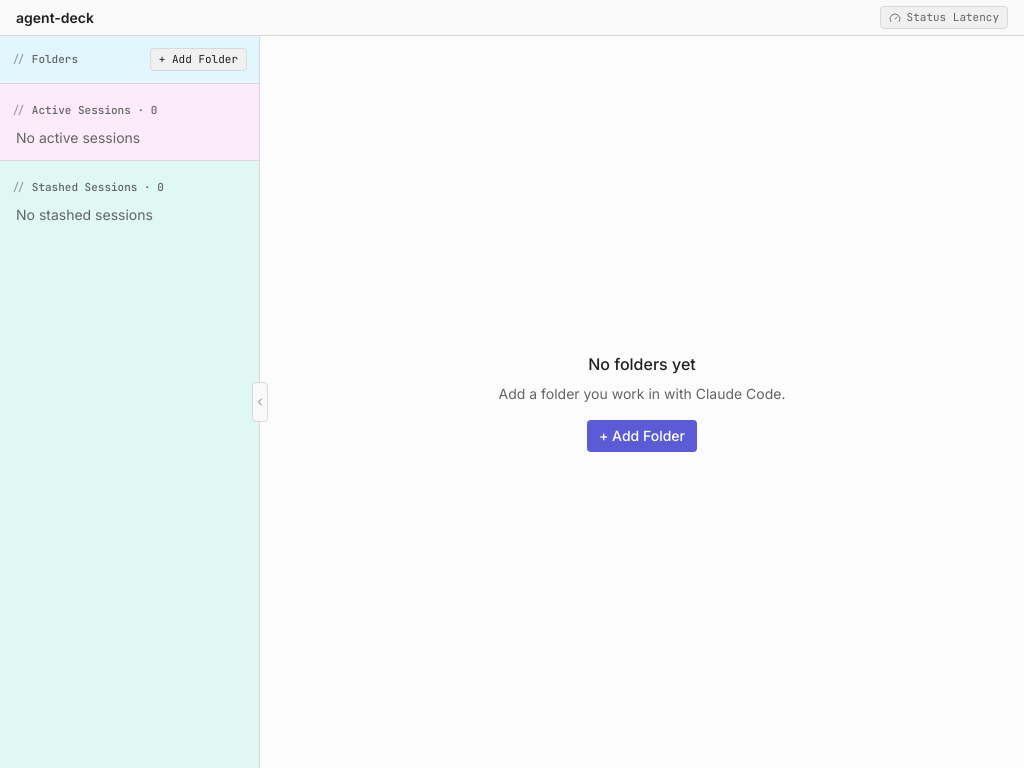
empty state (5.4) › shows No folders yet with a working Add Folder button
The image size is (1024, 768).
Expected: the text "No folders yet" is shown, [588,354,696,374]
Expected: the text "Add a folder you work in with Claude Code." is shown, [498,384,786,404]
Click the button "+ Add Folder" below "No folders yet".
click(642, 436)  # box [587,420,697,452]
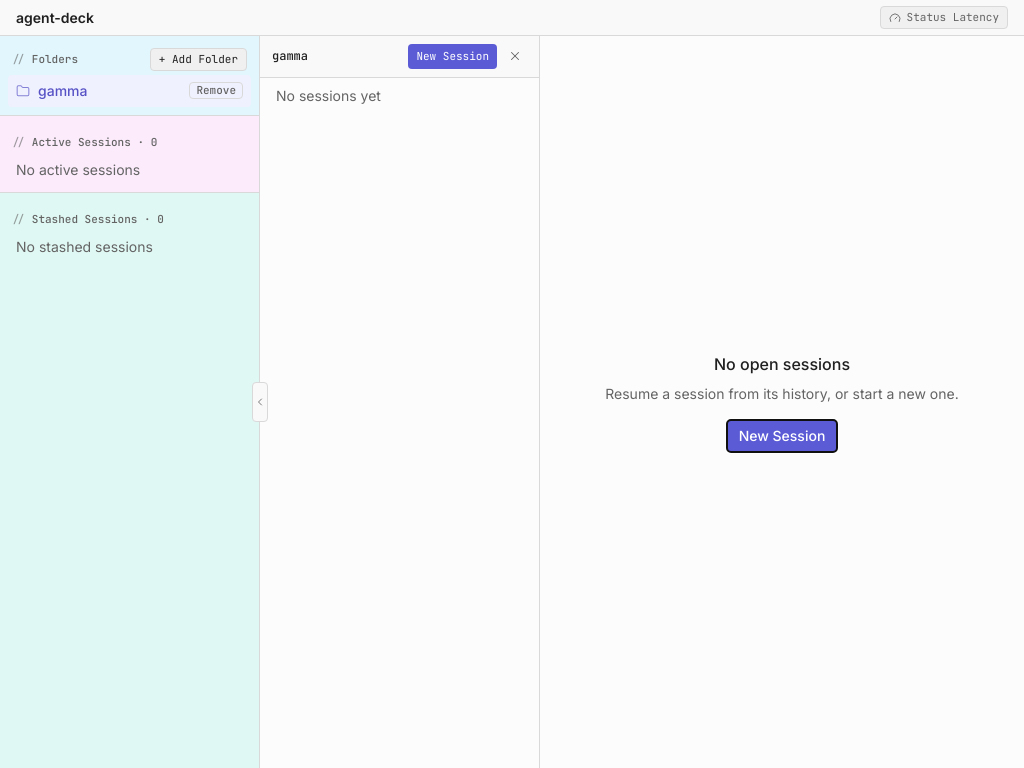
Now the text "gamma" is shown, box [38,80,88,100]
Now the text "No folders yet" is gone
